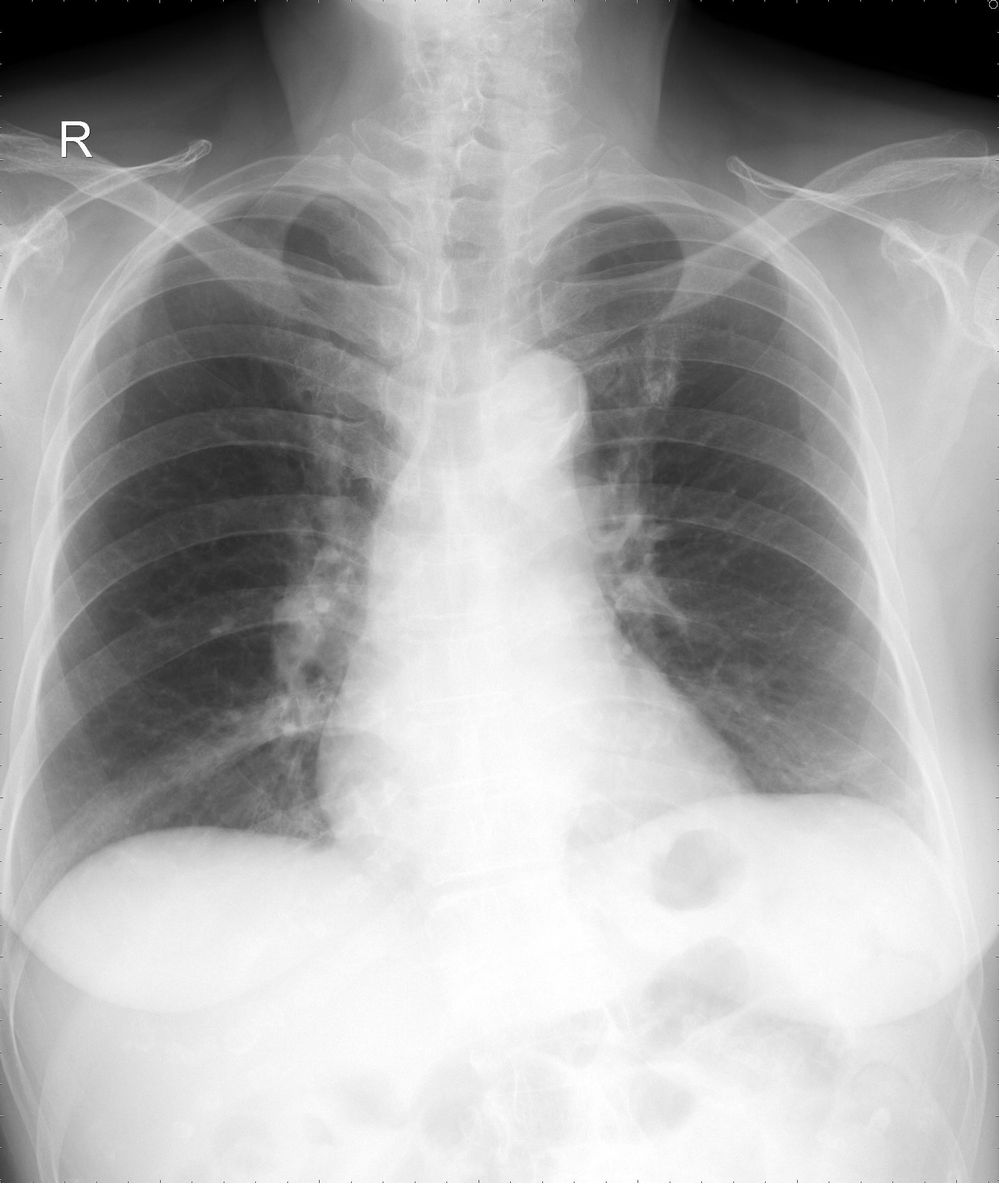Aortic enlargement: (497, 349, 587, 468)
